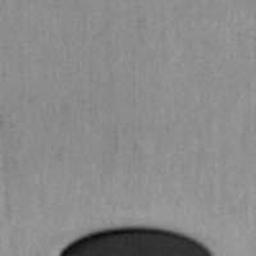Punching: (56, 225, 212, 256)
